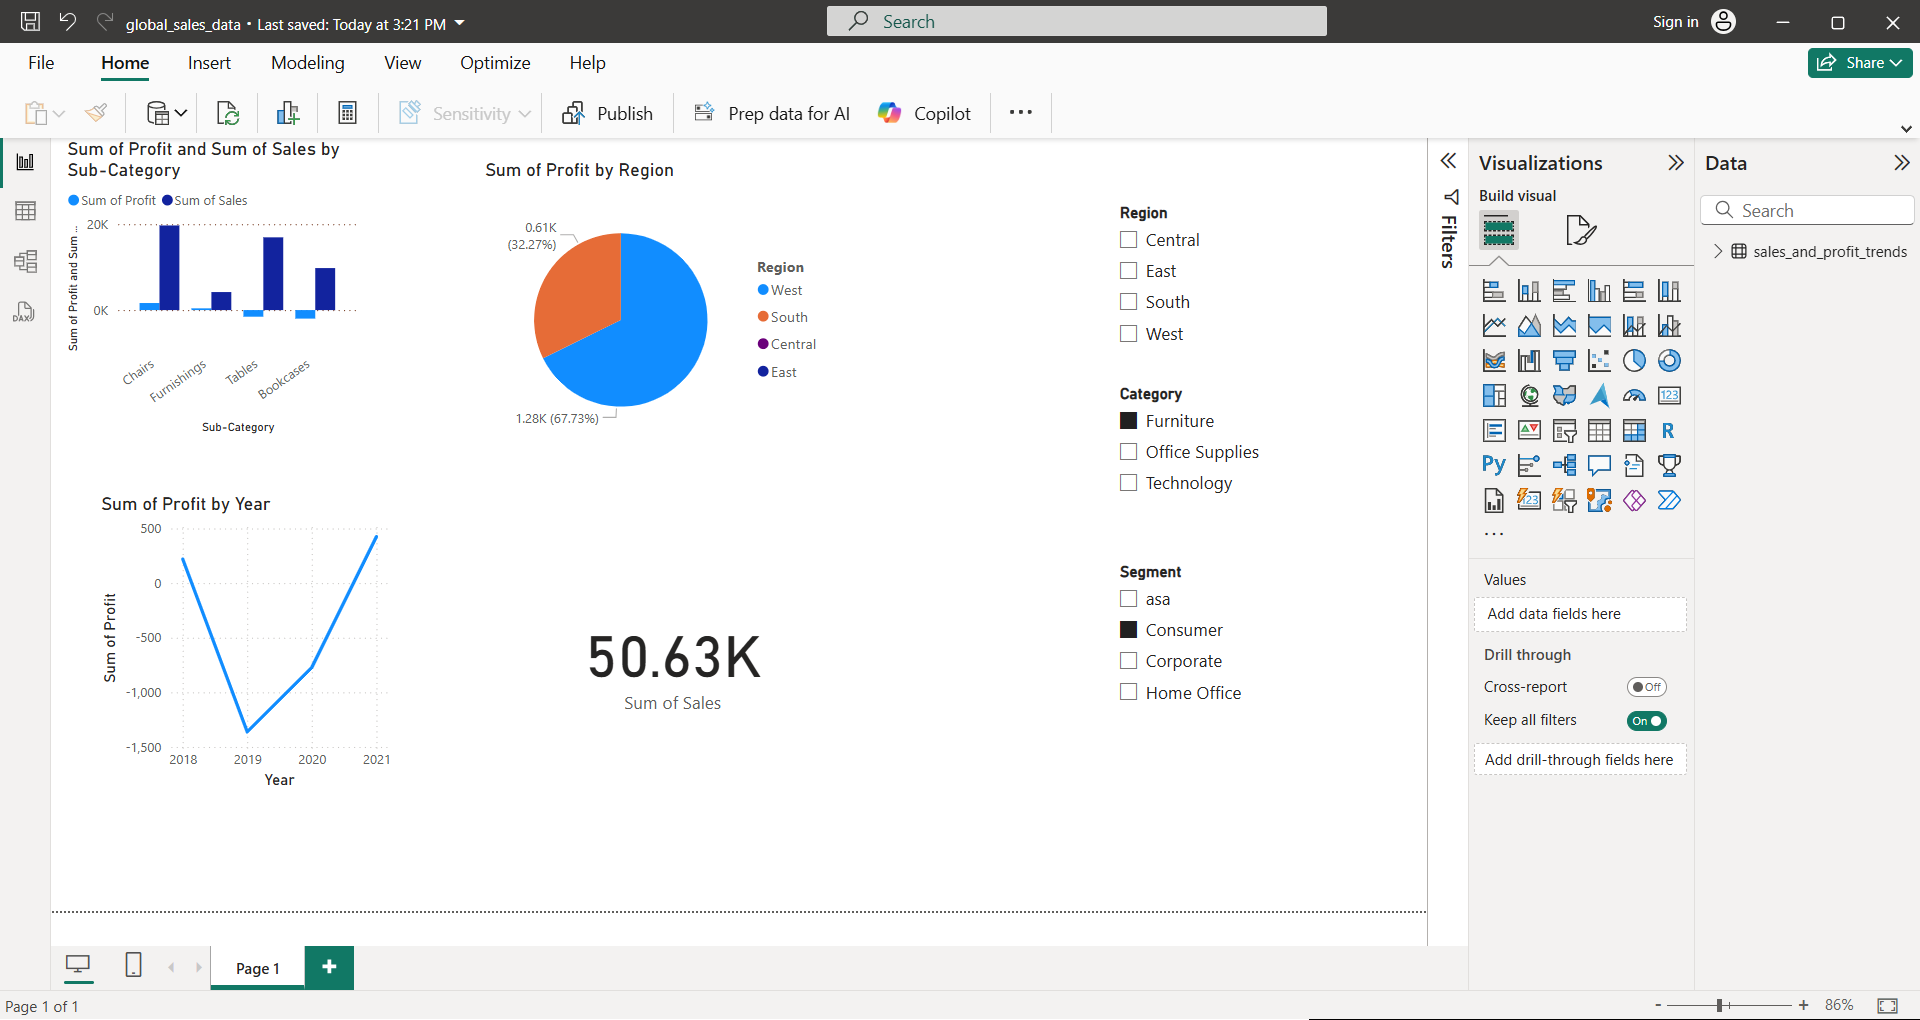

The page's visual inventory and layout, read from the dashboard file:
{"tool":"powerbi","page":{"name":"Page 1","canvas":[1280,720],"ordinal":0},"visuals":[{"type":"clusteredColumnChart","fields":{"Category":["sales_and_profit_trends.Sub-Category"],"Y":["Sum(sales_and_profit_trends.Profit)","Sum(sales_and_profit_trends.Sales)"]},"box":[10,0,280,280],"z":0},{"type":"lineChart","fields":{"Category":["sales_and_profit_trends.Order Date.Variation.Date Hierarchy.Year","sales_and_profit_trends.Order Date.Variation.Date Hierarchy.Quarter","sales_and_profit_trends.Order Date.Variation.Date Hierarchy.Month","sales_and_profit_trends.Order Date.Variation.Date Hierarchy.Day"],"Y":["Sum(sales_and_profit_trends.Profit)"]},"box":[41.9,330.2,279.1,280.2],"z":1000},{"type":"pieChart","fields":{"Category":["sales_and_profit_trends.Region"],"Y":["Sum(sales_and_profit_trends.Profit)"]},"box":[340.1,10.7,327.3,280.2],"z":2000},{"type":"card","fields":{"Values":["Sum(sales_and_profit_trends.Sales)"]},"box":[447.1,406.4,280.2,149.7],"z":3000},{"type":"slicer","fields":{"Values":["sales_and_profit_trends.Region"]},"box":[975.4,34.2,278.1,151.9],"z":3001},{"type":"slicer","fields":{"Values":["sales_and_profit_trends.Category"]},"box":[975.4,186.1,280.2,151.9],"z":3002},{"type":"slicer","fields":{"Values":["sales_and_profit_trends.Segment"]},"box":[979.7,308,299.5,280.2],"z":3003}]}

Visuals, with their boxes on the page's 1280x720 design canvas (x1, y1, x2, y2). These are canvas units, not pixel positions in the 1920x1020 screenshot, which may show the page scaled, cropped or inside an application window:
clusteredColumnChart - sales_and_profit_trends.Sub-Category x Sum(sales_and_profit_trends.Profit): [10,0,290,280]
lineChart - sales_and_profit_trends.Order Date.Variation.Date Hierarchy.Year x sales_and_profit_trends.Order Date.Variation.Date Hierarchy.Quarter: [42,330,321,610]
pieChart - sales_and_profit_trends.Region x Sum(sales_and_profit_trends.Profit): [340,11,667,291]
card - Sum(sales_and_profit_trends.Sales): [447,406,727,556]
slicer - sales_and_profit_trends.Region: [975,34,1254,186]
slicer - sales_and_profit_trends.Category: [975,186,1256,338]
slicer - sales_and_profit_trends.Segment: [980,308,1279,588]
